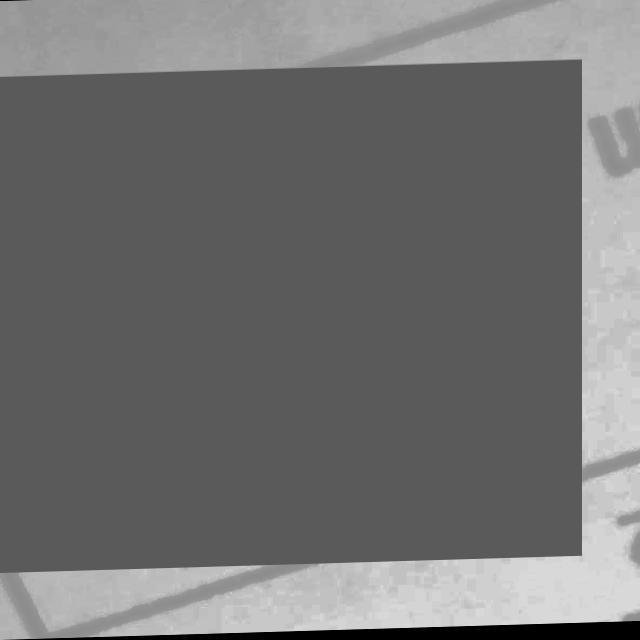qr_code: (0, 62, 582, 572)
